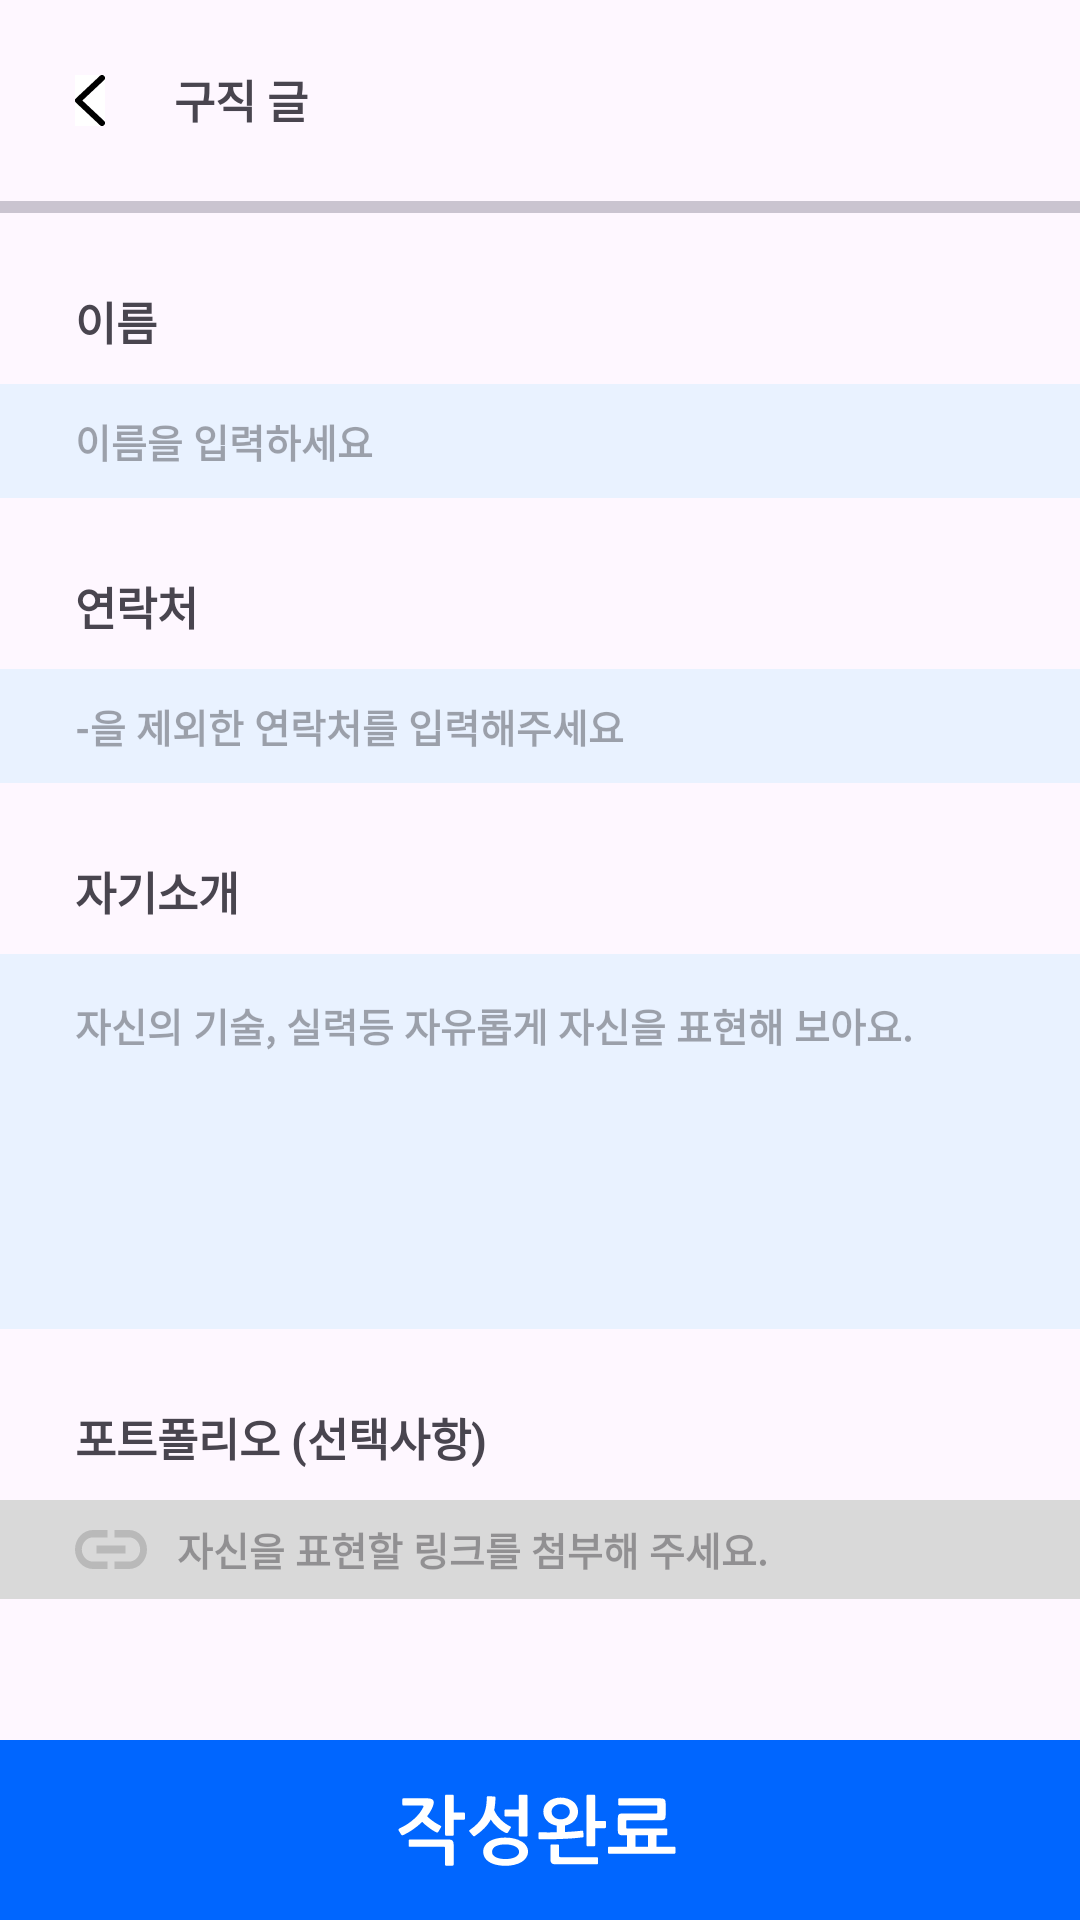

Named icons in this screenshot (1080 × 1920) and their bounding boxes, (x1, y1, x2, y2):
back: (75, 75, 105, 126)
